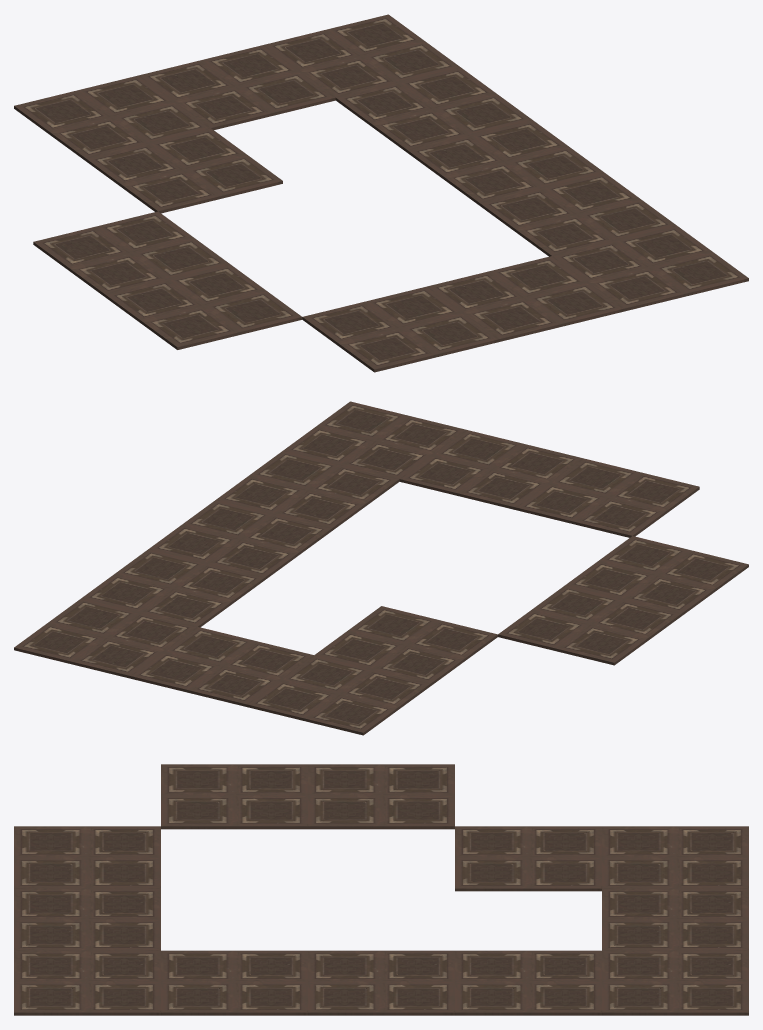
File: Homeworld_Interior_Ly_Room_E_Ceiling_01_Vo.fbx
The picture shows the model from 3 angles, top to bottom: view 1: azimuth 30°, elevation 25°; view 2: azimuth 150°, elevation 25°; view 3: azimuth 270°, elevation 25°; orthographic projection. The views are drawn at different scales.
Visible parts, largest first — view 1: Homeworld_Interior_Ly_Room_E_Ceiling_01_Vo; view 2: Homeworld_Interior_Ly_Room_E_Ceiling_01_Vo; view 3: Homeworld_Interior_Ly_Room_E_Ceiling_01_Vo.
Boxes of the visible parts, left/top/right/bottom form: Homeworld_Interior_Ly_Room_E_Ceiling_01_Vo: left=14, top=14, right=748, bottom=372; Homeworld_Interior_Ly_Room_E_Ceiling_01_Vo: left=14, top=401, right=748, bottom=735; Homeworld_Interior_Ly_Room_E_Ceiling_01_Vo: left=14, top=764, right=748, bottom=1015.
Bounding box in the file's own units: 20 × 0.11 × 25.
